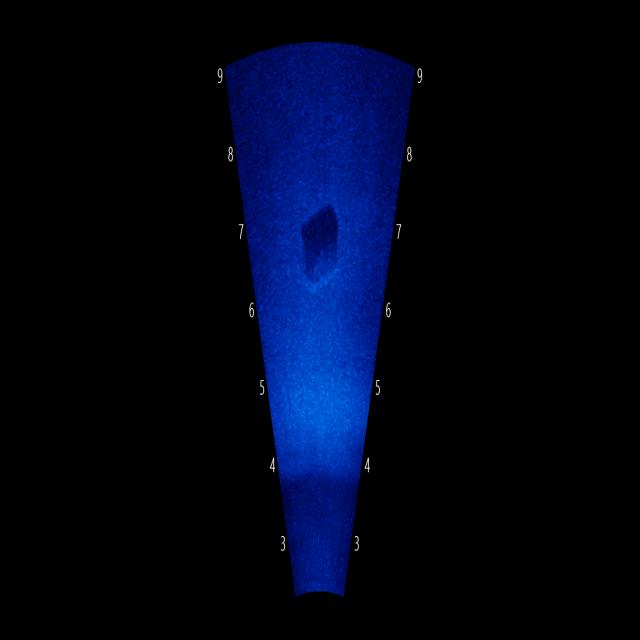square: (292, 192, 359, 296)
